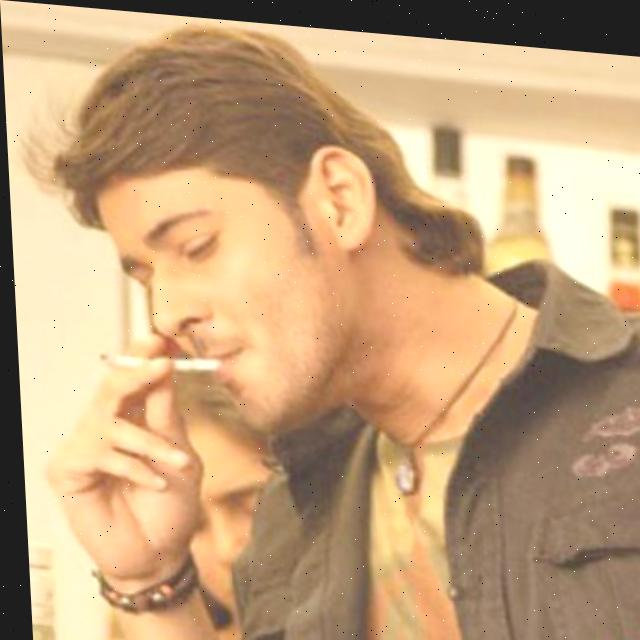cigarette: (92, 346, 222, 380)
